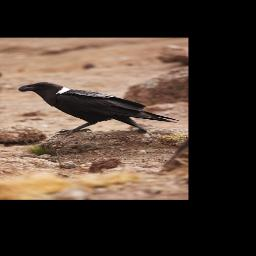Crow: (16, 80, 180, 139)
